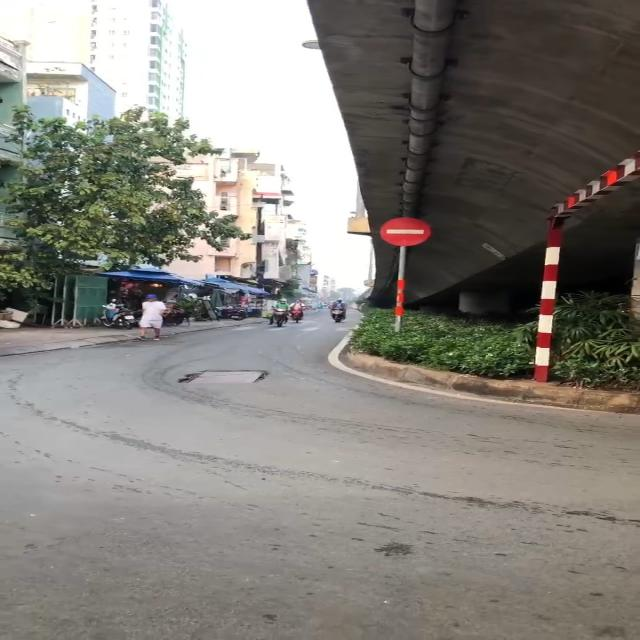Bien bao cam di nguoc chieu: (376, 213, 438, 250)
